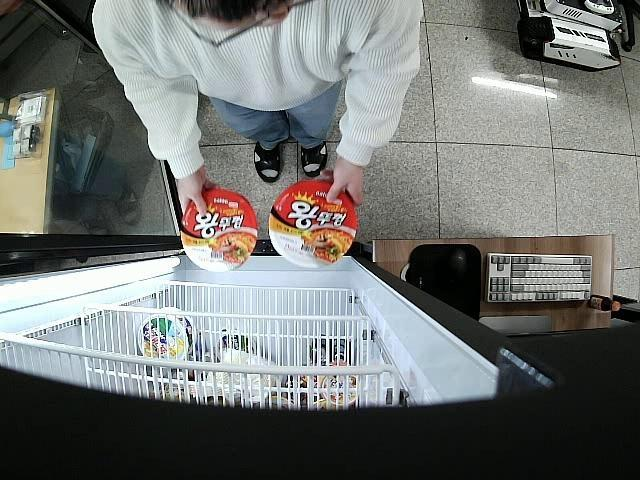10_wangTtukkeong: (270, 179, 356, 268), (180, 188, 256, 274)
